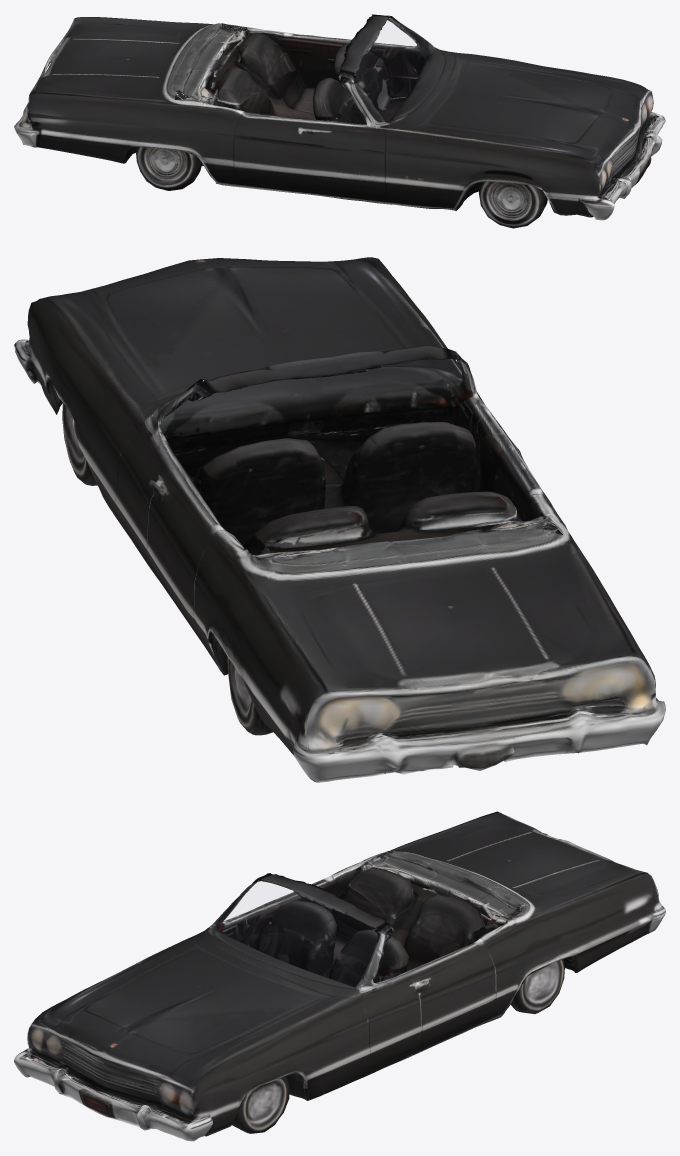
File: ps1 style abandoned car.glb
The picture shows the model from 3 angles, top to bottom: view 1: azimuth 30°, elevation 25°; view 2: azimuth 150°, elevation 25°; view 3: azimuth 270°, elevation 25°; orthographic projection. The views are drawn at different scales.
Parts seen in each view (by area): view 1: ps1 abandoned car; view 2: ps1 abandoned car; view 3: ps1 abandoned car.
Part boxes in pixels (left/top/right/bottom): ps1 abandoned car: left=14, top=14, right=665, bottom=228; ps1 abandoned car: left=14, top=257, right=665, bottom=782; ps1 abandoned car: left=14, top=811, right=665, bottom=1141.
Bounding box in the file's own units: 1.85 × 0.4473 × 1.83.
Materials: 2 (1 with a texture image).
